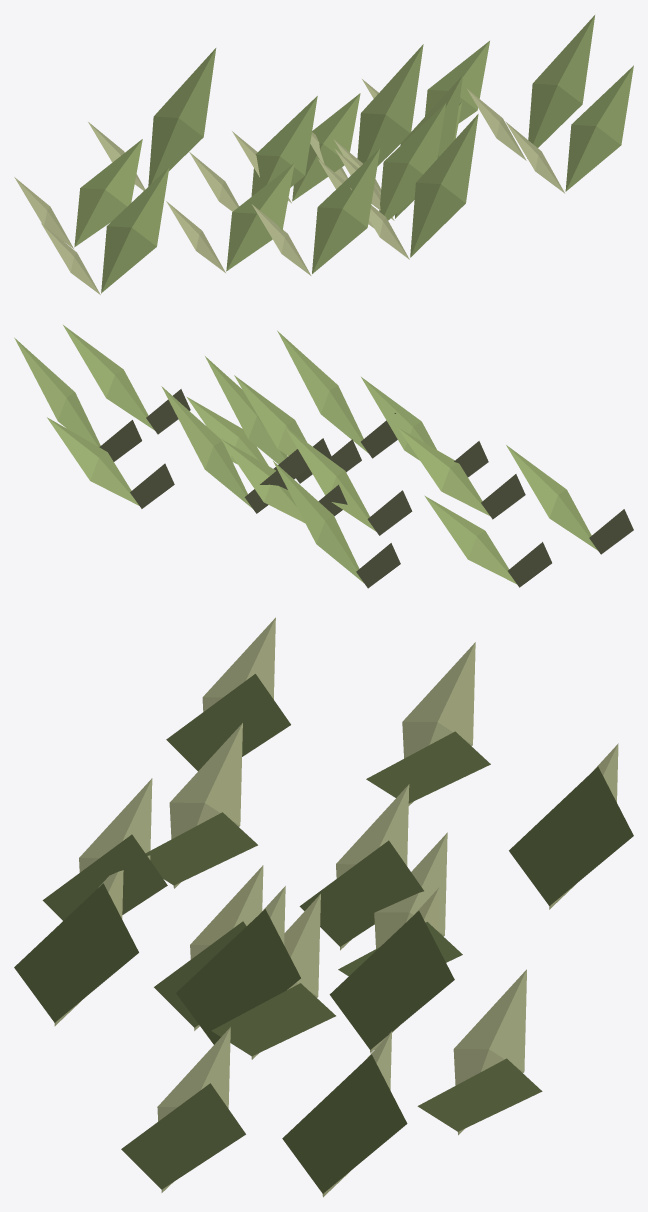
File: map-exclusive-v3__meadow_13.glb
3 renders of one model, top to bottom at view 1: azimuth 30°, elevation 25°; view 2: azimuth 150°, elevation 25°; view 3: azimuth 270°, elevation 25°, orthographic. The views are drawn at different scales.
Parts seen in each view (by area): view 1: meadow_13; view 2: meadow_13; view 3: meadow_13.
Part boxes in pixels (<box>): meadow_13: <box>14,15,633,294</box>; meadow_13: <box>14,325,633,588</box>; meadow_13: <box>14,617,633,1197</box>.
Size of the model in its own units: 3.06 by 0.59 by 1.52.
